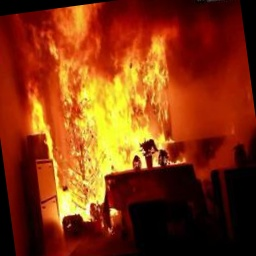fire: (8, 0, 213, 253)
